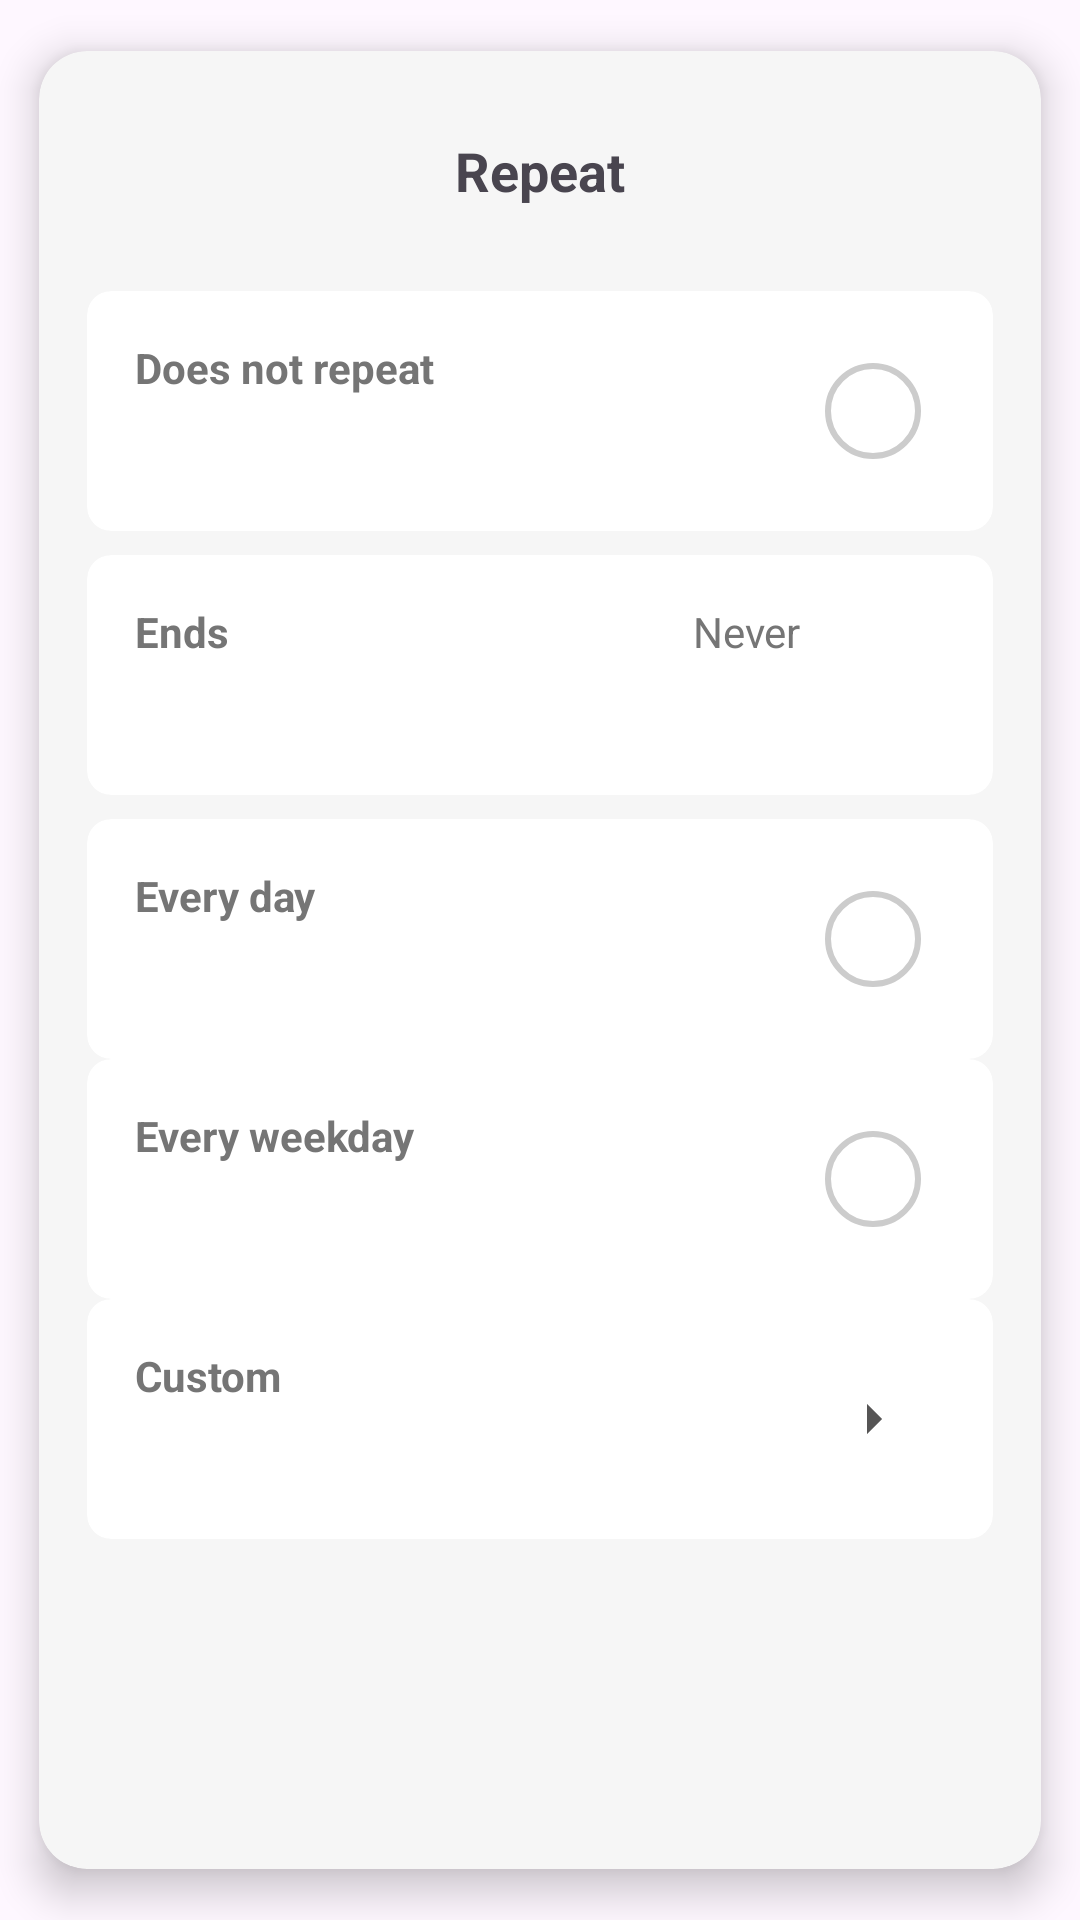

Locate icon controls on the screen. Image size 1080x1920, boxes as {"left": x1, "top": y1, "right": x2, "bottom": y2}.
Checkbox for Every day: {"left": 825, "top": 891, "right": 921, "bottom": 987}
